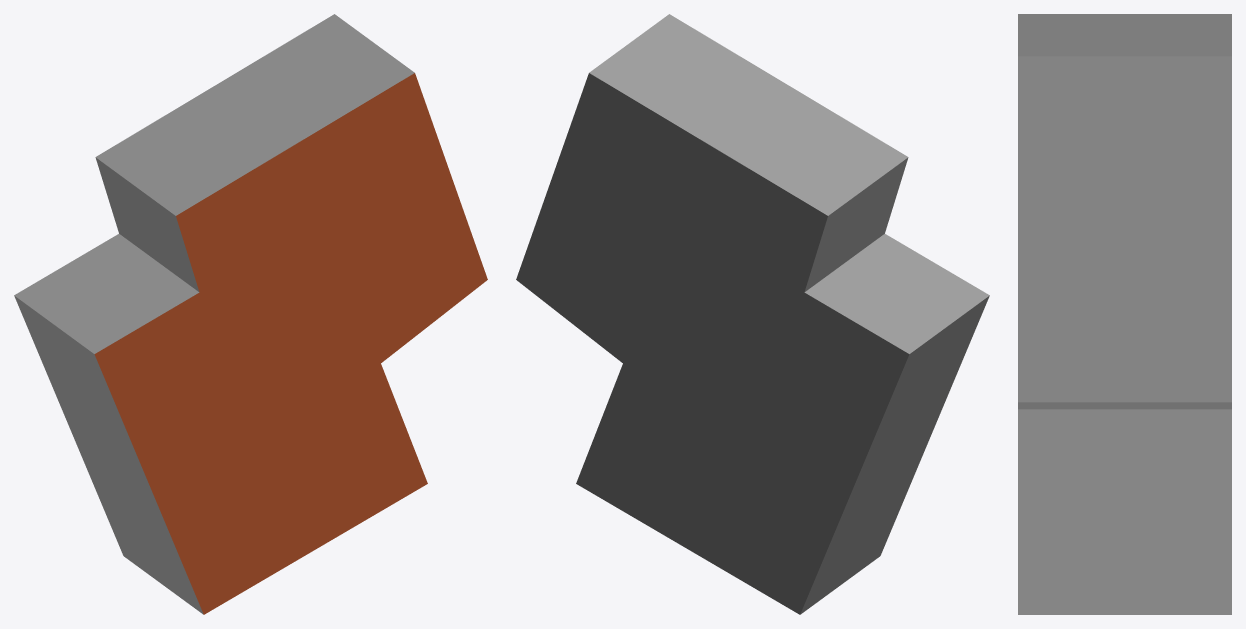
File: construction_6221_assumed_A_Casa_h6m.obj
3 renders of one model, left to right at view 1: azimuth 30°, elevation 25°; view 2: azimuth 150°, elevation 25°; view 3: azimuth 270°, elevation 25°, orthographic. The views are drawn at different scales.
Visible parts, largest first — view 1: construction_6221_assumed_A_Casa; view 2: construction_6221_assumed_A_Casa; view 3: construction_6221_assumed_A_Casa.
Part boxes in pixels (box(x1,y1,x2,y2)): construction_6221_assumed_A_Casa: box(14, 14, 487, 614); construction_6221_assumed_A_Casa: box(516, 14, 989, 614); construction_6221_assumed_A_Casa: box(1018, 14, 1231, 614).
Bounding box in the file's own units: 16.95 × 20.19 × 6.
